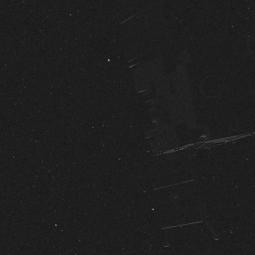proba_2: (130, 71, 236, 228)
